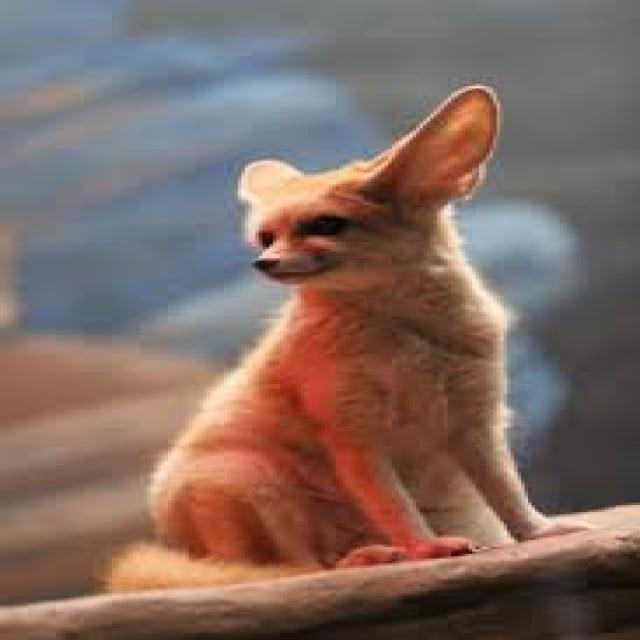fox: (102, 82, 588, 591)
